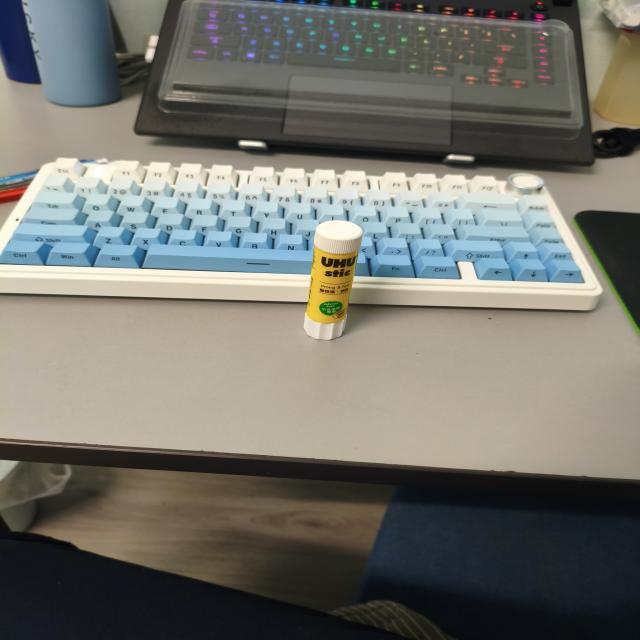glue: (304, 220, 362, 340)
